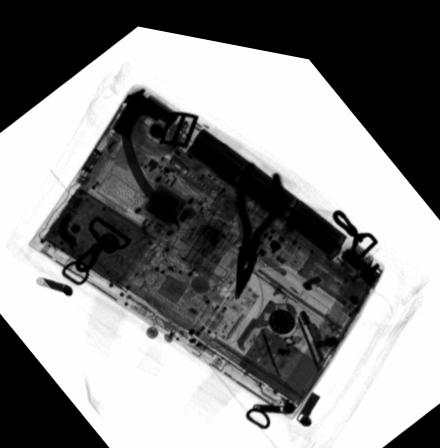Pliers: (230, 149, 287, 290)
